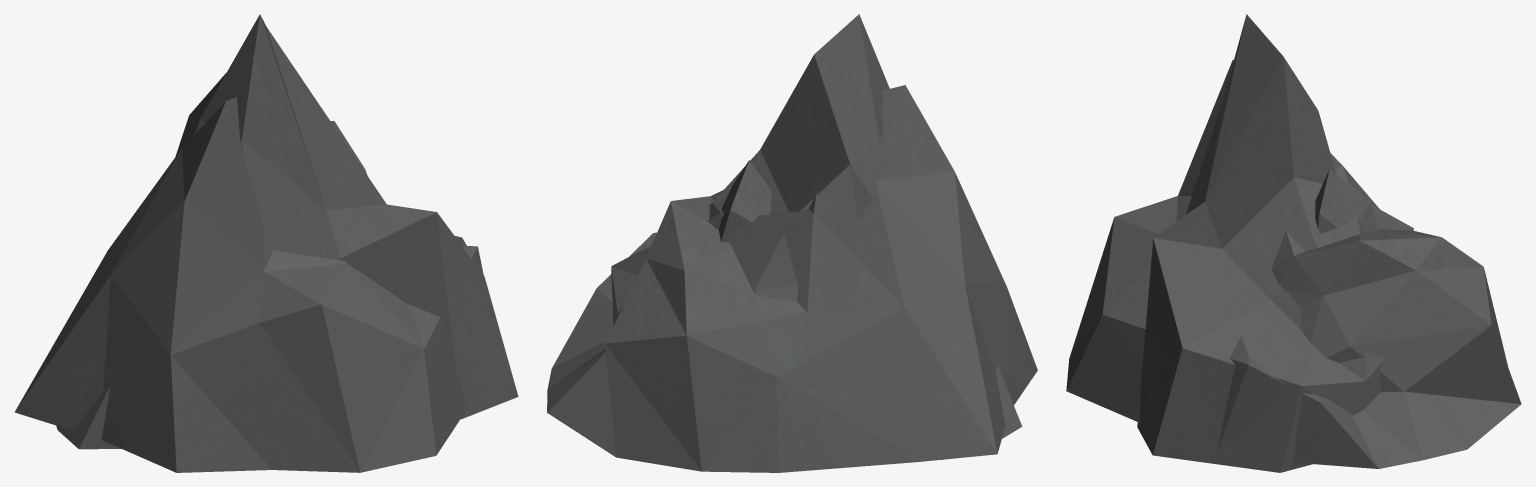
Rendered from dag.fbx.
3 views of the same model, side by side, from view 1: azimuth 30°, elevation 25°; view 2: azimuth 150°, elevation 25°; view 3: azimuth 270°, elevation 25° (orthographic). The views are drawn at different scales.
Visible parts, largest first — view 1: FatMountain, BigMountain; view 2: FatMountain, BigMountain, LilMountain; view 3: FatMountain, BigMountain, LilMountain.
Boxes of the visible parts, box(x1,y1,x2,y2) form: FatMountain: box(14, 97, 483, 472); BigMountain: box(56, 14, 518, 449); FatMountain: box(547, 85, 1037, 472); BigMountain: box(611, 14, 1022, 459); LilMountain: box(719, 160, 771, 242); FatMountain: box(1066, 60, 1521, 468); BigMountain: box(1137, 14, 1413, 472); LilMountain: box(1315, 169, 1377, 233).
Bounding box in the file's own units: 7684 × 7834 × 6553.
